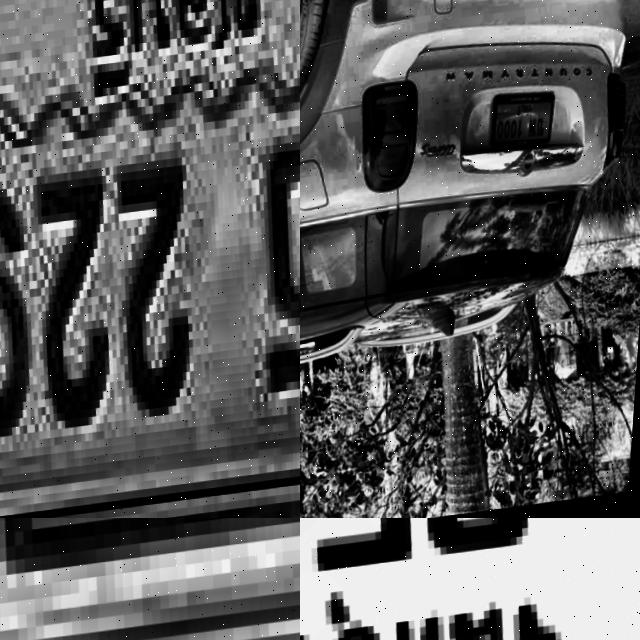license-plate: (0, 0, 300, 518), (300, 518, 640, 640), (0, 518, 300, 640), (487, 93, 561, 153)
